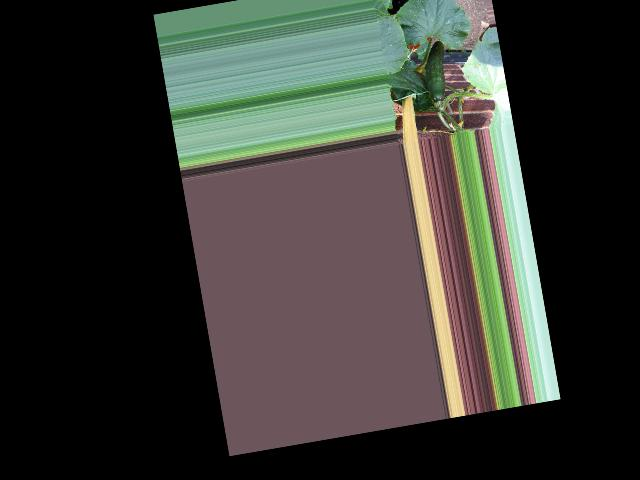cucumber: (420, 40, 453, 103)
